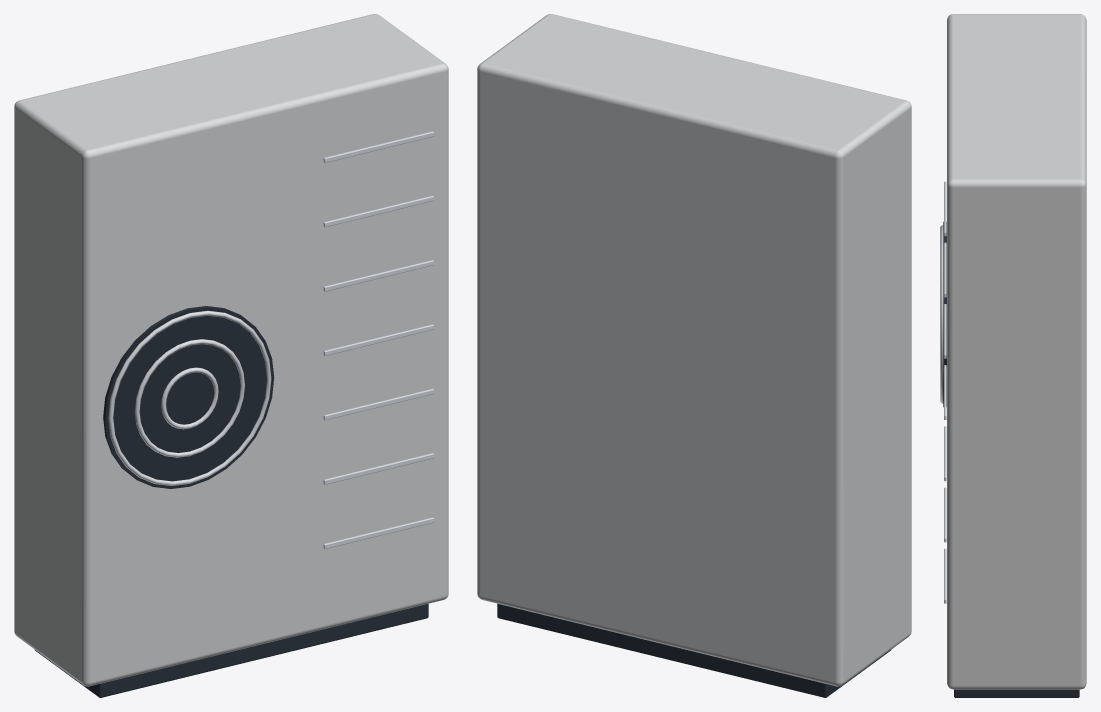
Rendered from outdoor-xl.glb.
3 renders of one model, left to right at view 1: azimuth 30°, elevation 25°; view 2: azimuth 150°, elevation 25°; view 3: azimuth 270°, elevation 25°, orthographic. The views are drawn at different scales.
Bounding box in the file's own units: 0.95 × 1.37 × 0.3457.
